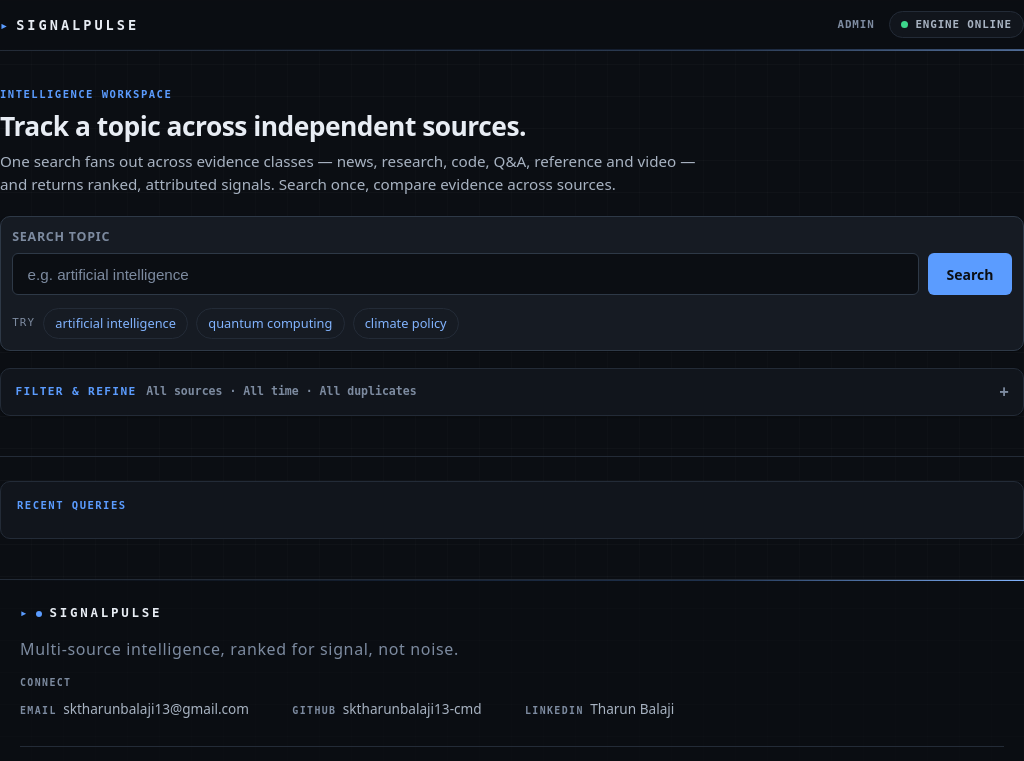
Test: App › shows a per-source status summary on completion
Type "ai" into the field labelled "Search topic". click: (465, 274)
box: [12,253,918,295]
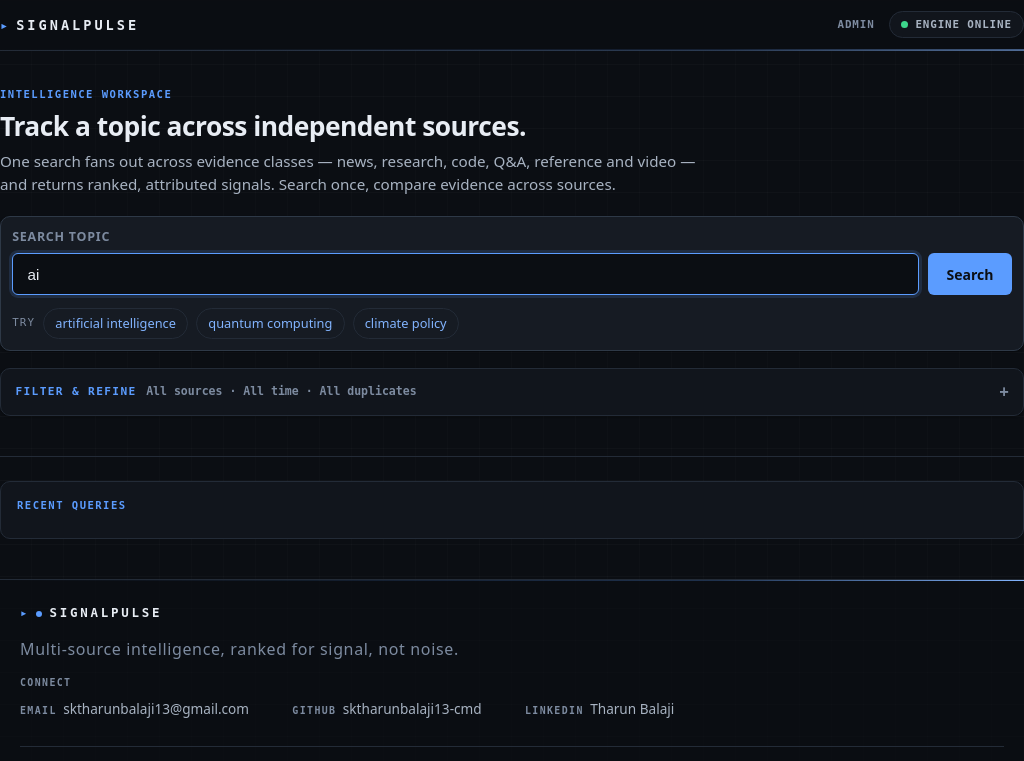
Click the button "Search". click: (970, 274)
box: [928,253,1012,295]
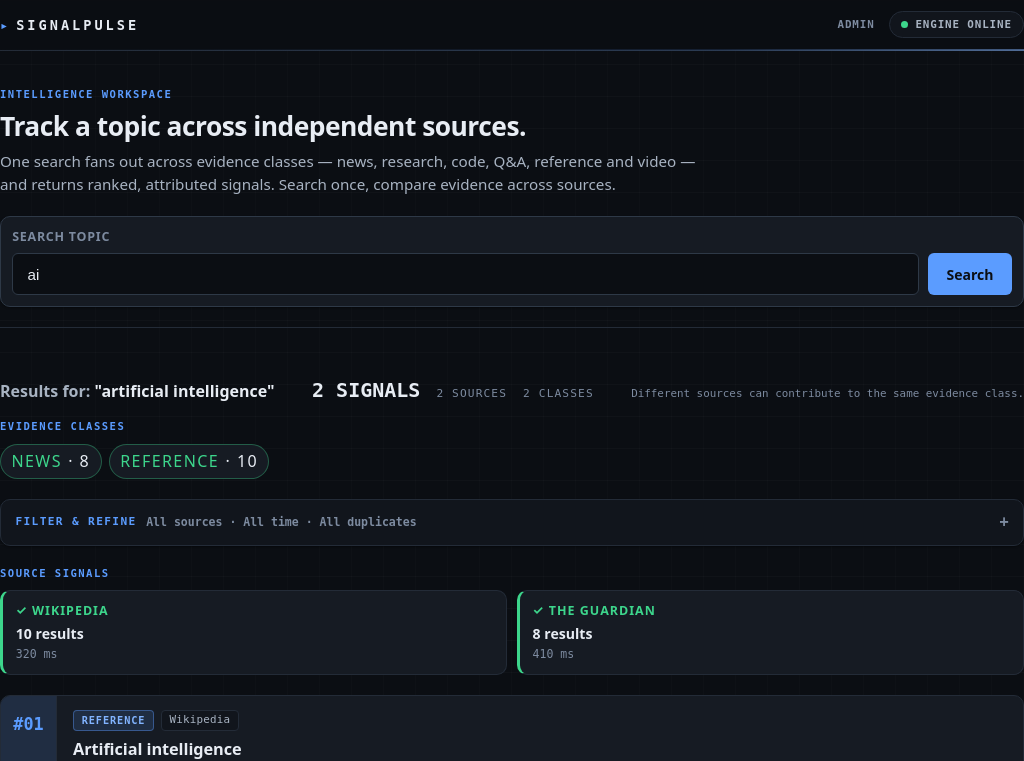
Check: the text "✓ Wikipedia" is shown, box [16,602,109,620]
Check: the text "10 results" is shown, box [16,624,84,643]
Check: the text "320 ms" is shown, box [16,647,57,661]
